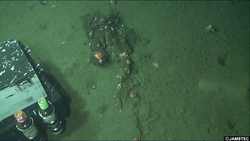fishing net: (82, 10, 136, 112)
